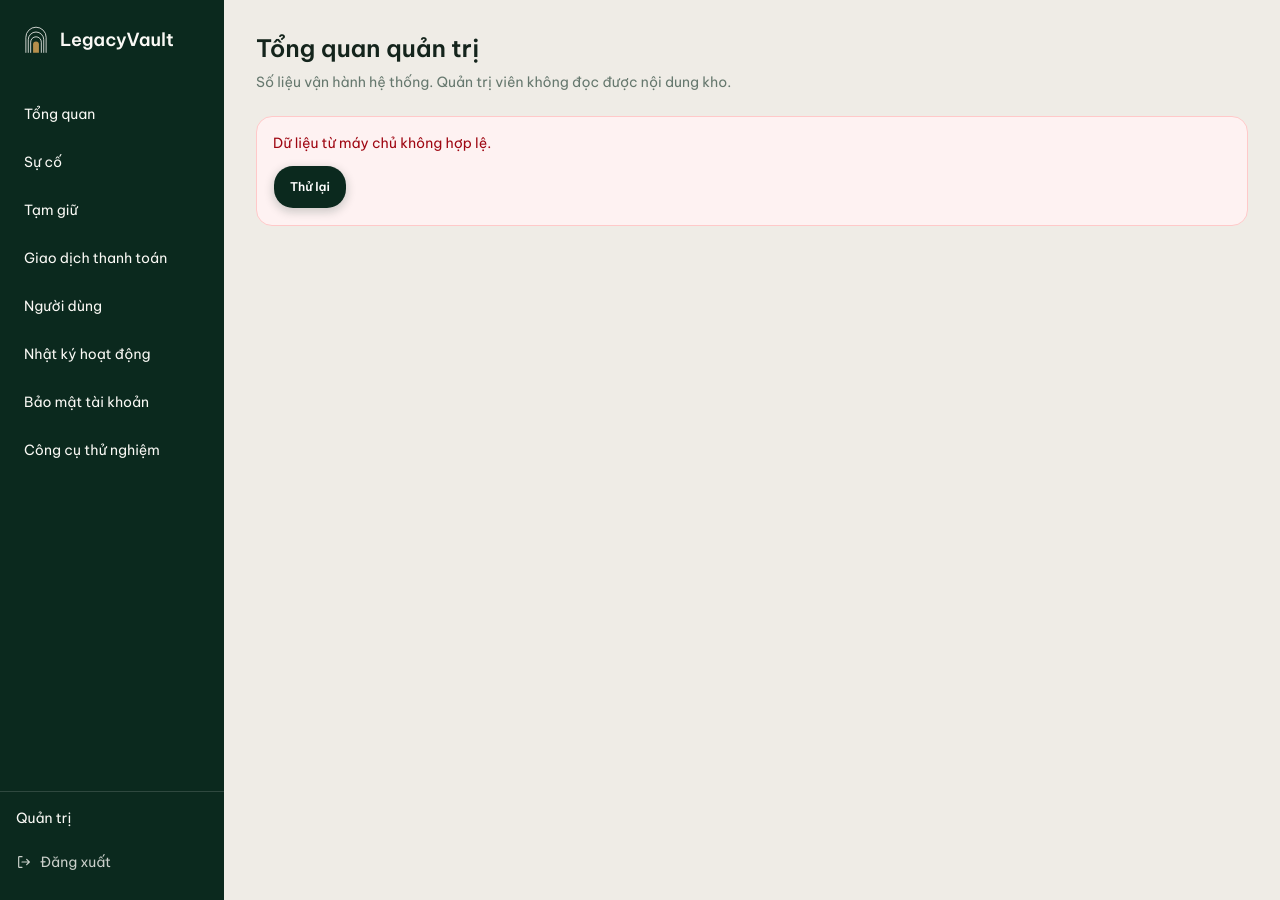
Scenario: response dashboard thiếu field bị phát hiện, thử lại được
Expected: the text "Dữ liệu từ máy chủ không hợp lệ." is shown, x1=273 y1=134 x2=491 y2=152
Click the button "Thử lại": (310, 187) x1=273 y1=165 x2=347 y2=209
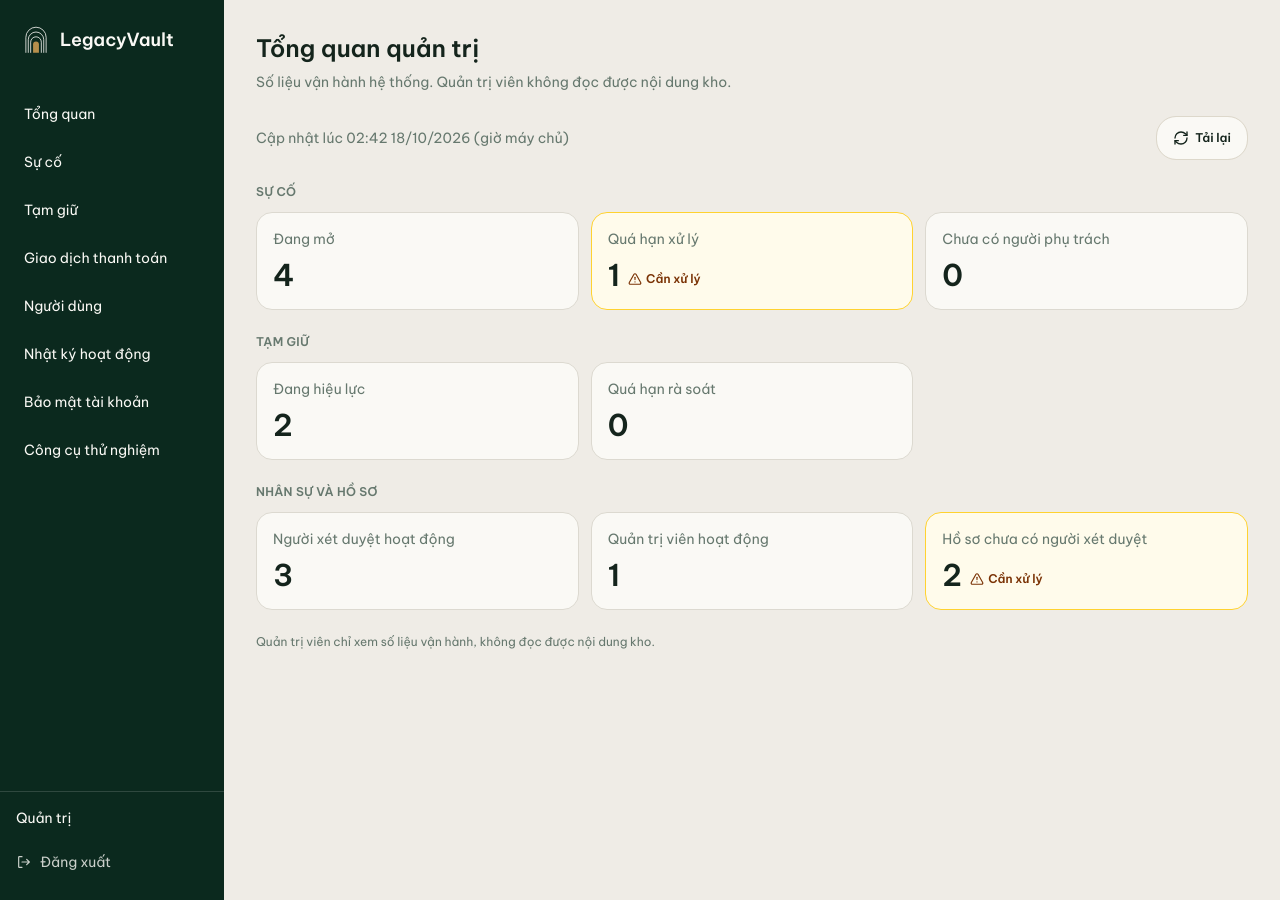
Expected: the text "Quá hạn xử lý" is shown, x1=608 y1=230 x2=699 y2=248
